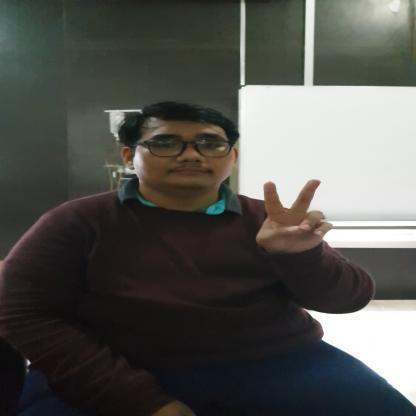V: (254, 178, 336, 252)
